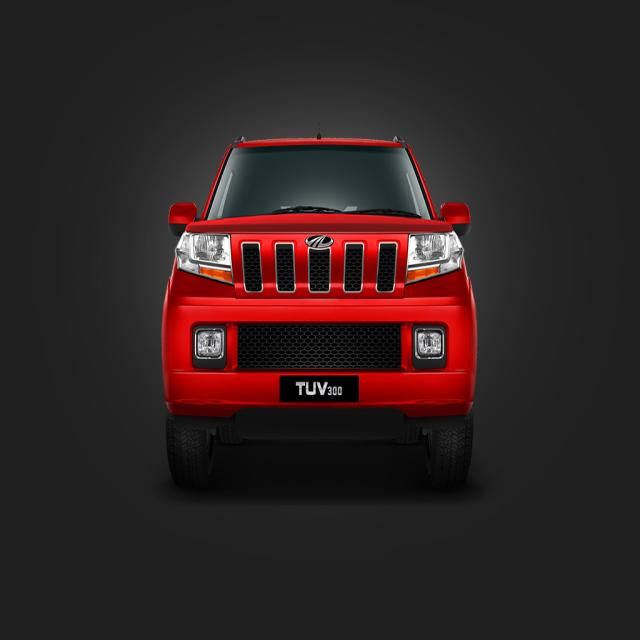light_vehicle: (155, 136, 481, 481)
